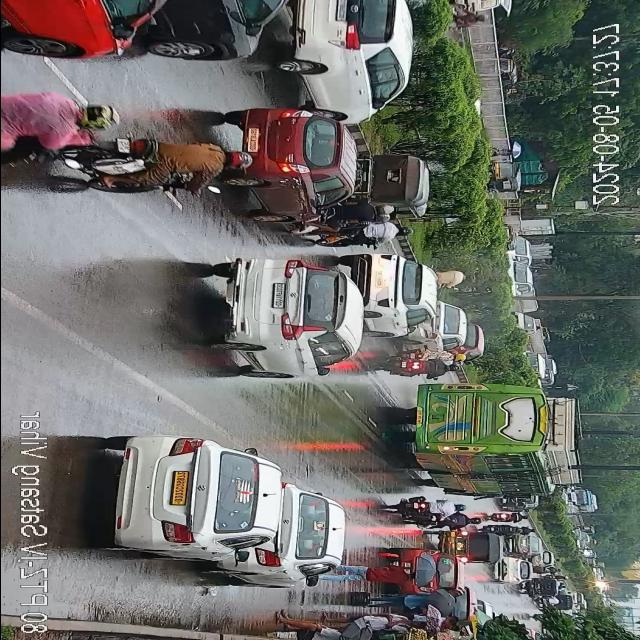2-wheelers: (70, 137, 260, 197), (0, 80, 114, 170), (308, 203, 412, 247), (379, 348, 464, 380), (384, 496, 466, 520), (415, 516, 481, 530), (522, 576, 562, 598), (532, 554, 566, 579), (445, 10, 489, 28), (440, 270, 480, 288), (480, 525, 538, 535), (487, 512, 531, 524)
auto: (356, 150, 429, 213), (436, 528, 498, 565), (482, 142, 522, 192)
bus: (402, 378, 568, 502)
car: (108, 432, 284, 561), (208, 257, 369, 381), (288, 3, 420, 124), (232, 102, 356, 222), (1, 1, 182, 63), (240, 489, 346, 584), (150, 0, 290, 70), (338, 250, 429, 342), (392, 548, 462, 596), (412, 301, 468, 344), (496, 553, 528, 585), (453, 590, 479, 622), (494, 495, 540, 511), (509, 536, 542, 558), (463, 327, 487, 357), (508, 266, 532, 292)
pedestrian: (324, 560, 432, 591), (274, 608, 358, 640), (328, 614, 428, 632), (369, 594, 441, 610), (433, 616, 461, 634)
